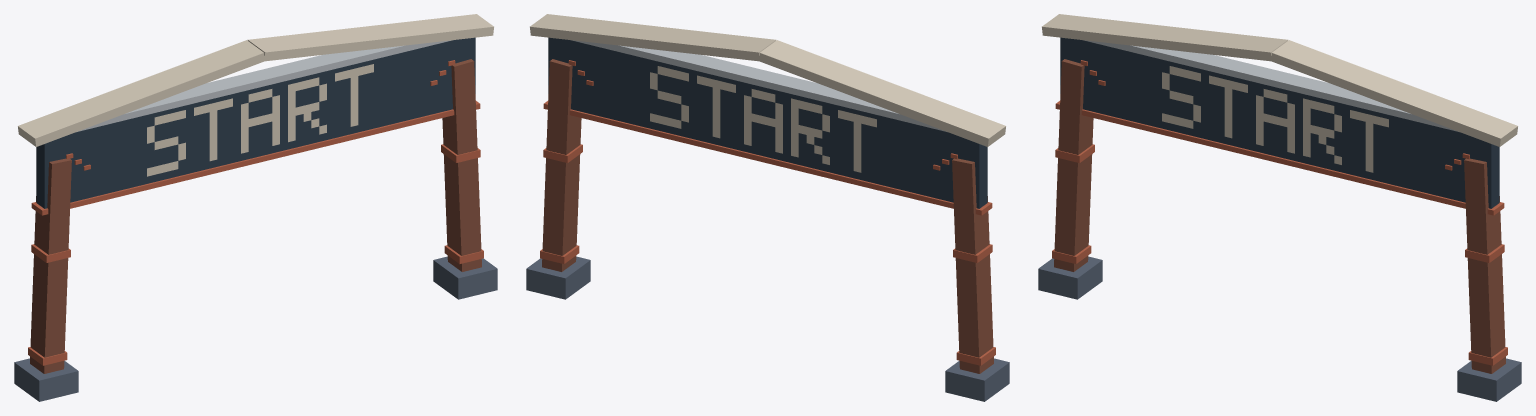
Rendered from start.glb.
3 views of the same model, side by side, from view 1: azimuth 30°, elevation 25°; view 2: azimuth 150°, elevation 25°; view 3: azimuth 330°, elevation 25° (orthographic).
Visible parts, largest first — view 1: start; view 2: start; view 3: start.
Boxes of the visible parts, box(x1,y1,x2,y2) form: start: box(14, 14, 497, 401); start: box(526, 14, 1009, 401); start: box(1038, 14, 1521, 401).
Size of the model in its own units: 9.9 by 5.99 by 0.94.
